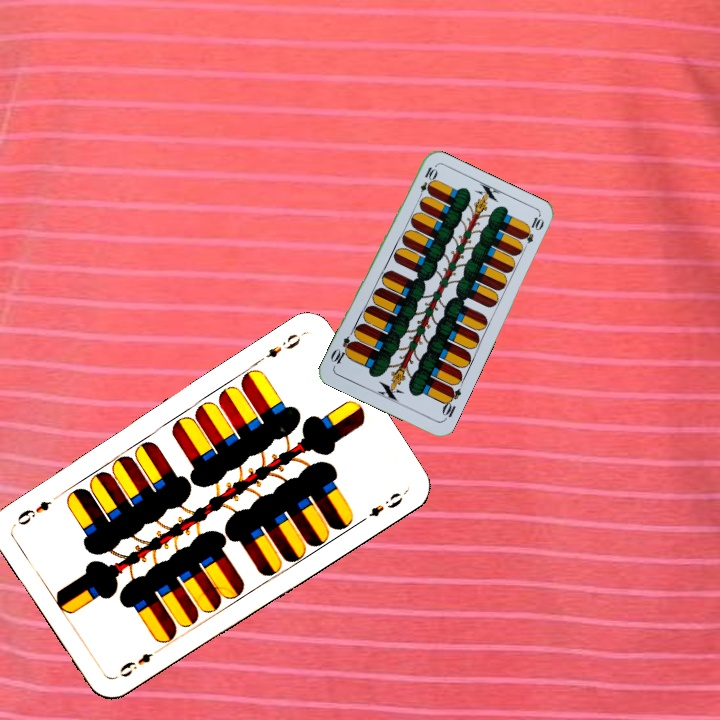E10: (438, 383, 464, 423), (414, 163, 439, 202)
E9: (115, 643, 164, 680), (261, 329, 306, 361)
